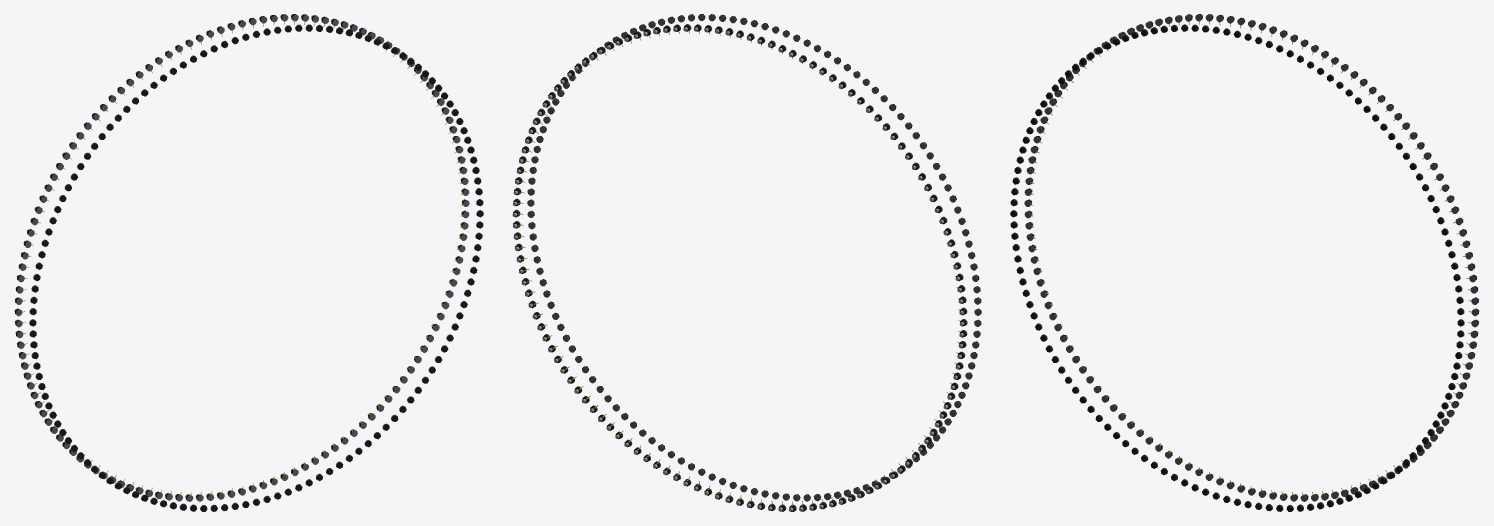
Rendered from flange_1_bolts_ok.glb.
3 views of the same model, side by side, from view 1: azimuth 30°, elevation 25°; view 2: azimuth 150°, elevation 25°; view 3: azimuth 330°, elevation 25° (orthographic).
Parts seen in each view (by area): view 1: flange_1_bolts_ok; view 2: flange_1_bolts_ok; view 3: flange_1_bolts_ok.
Boxes of the visible parts, left/top/right/bottom form: flange_1_bolts_ok: left=14, top=14, right=483, bottom=511; flange_1_bolts_ok: left=512, top=14, right=981, bottom=511; flange_1_bolts_ok: left=1010, top=14, right=1479, bottom=511.
Size of the model in its own units: 5.69 by 5.69 by 0.384.
Materials: 4 (3 with a texture image).
